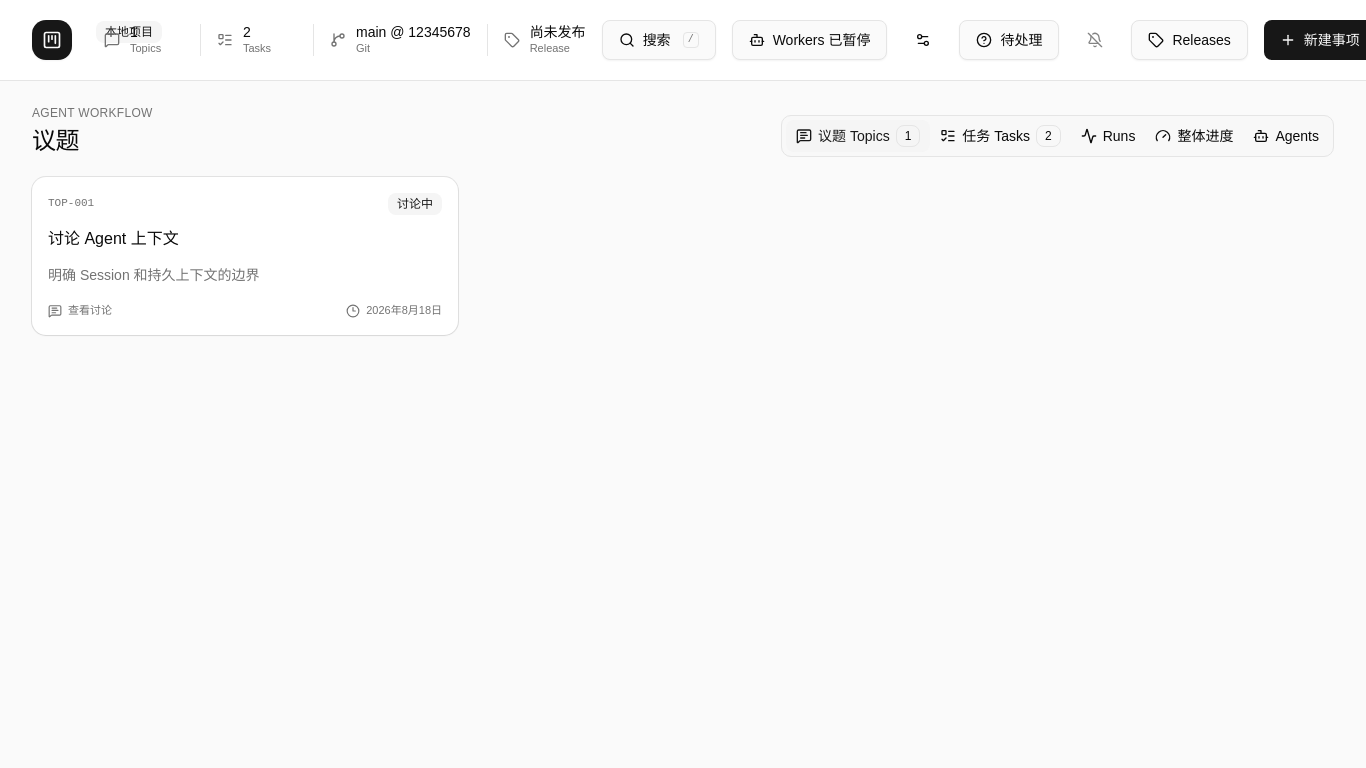
Scenario: App › 可以在项目顶部配置 Worker 并发数
The width and height of the screenshot is (1366, 768).
Expected: the text "讨论 Agent 上下文" is shown, [48,230,179,247]
Click the button named "配置 Workers" at (923, 40), box [903,20,943,60]
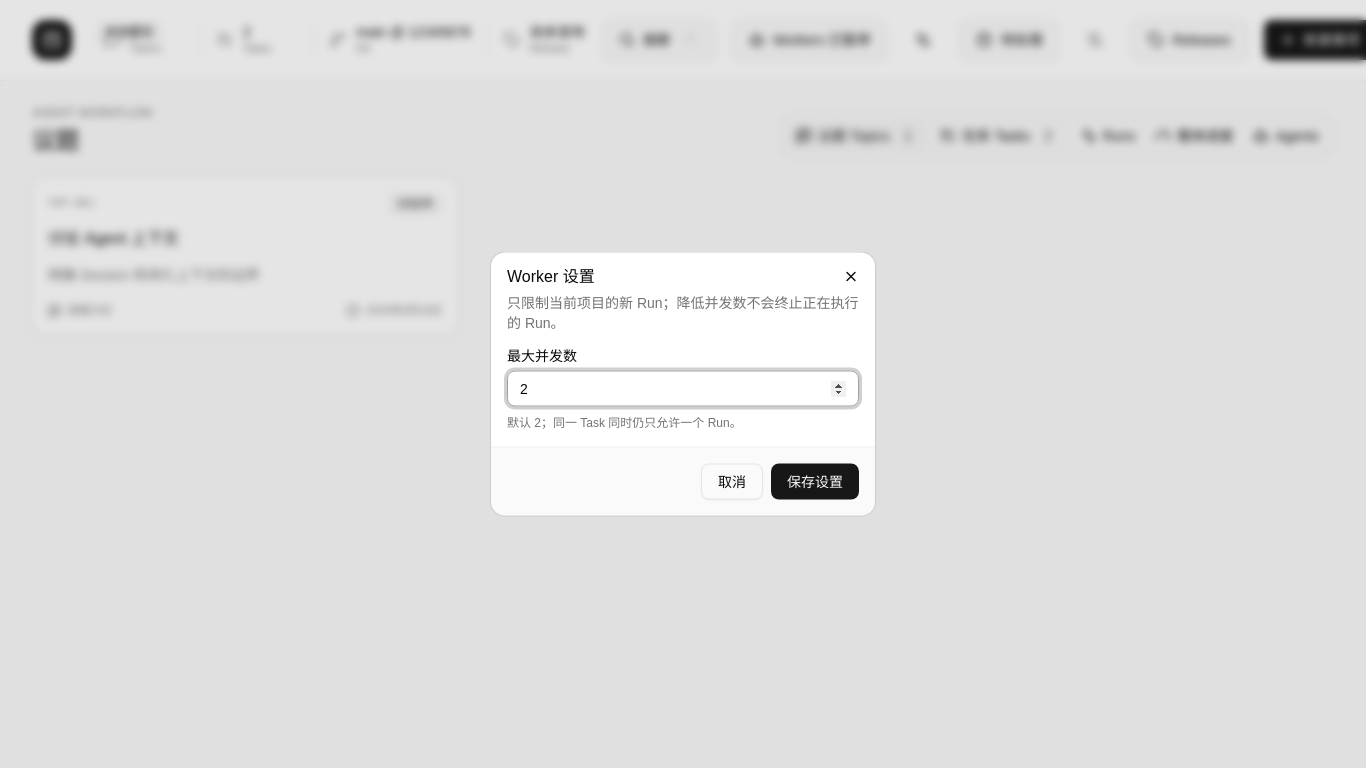
Replace the text in the number field labelled "最大并发数" with "4" at (683, 388), box [507,370,859,406]
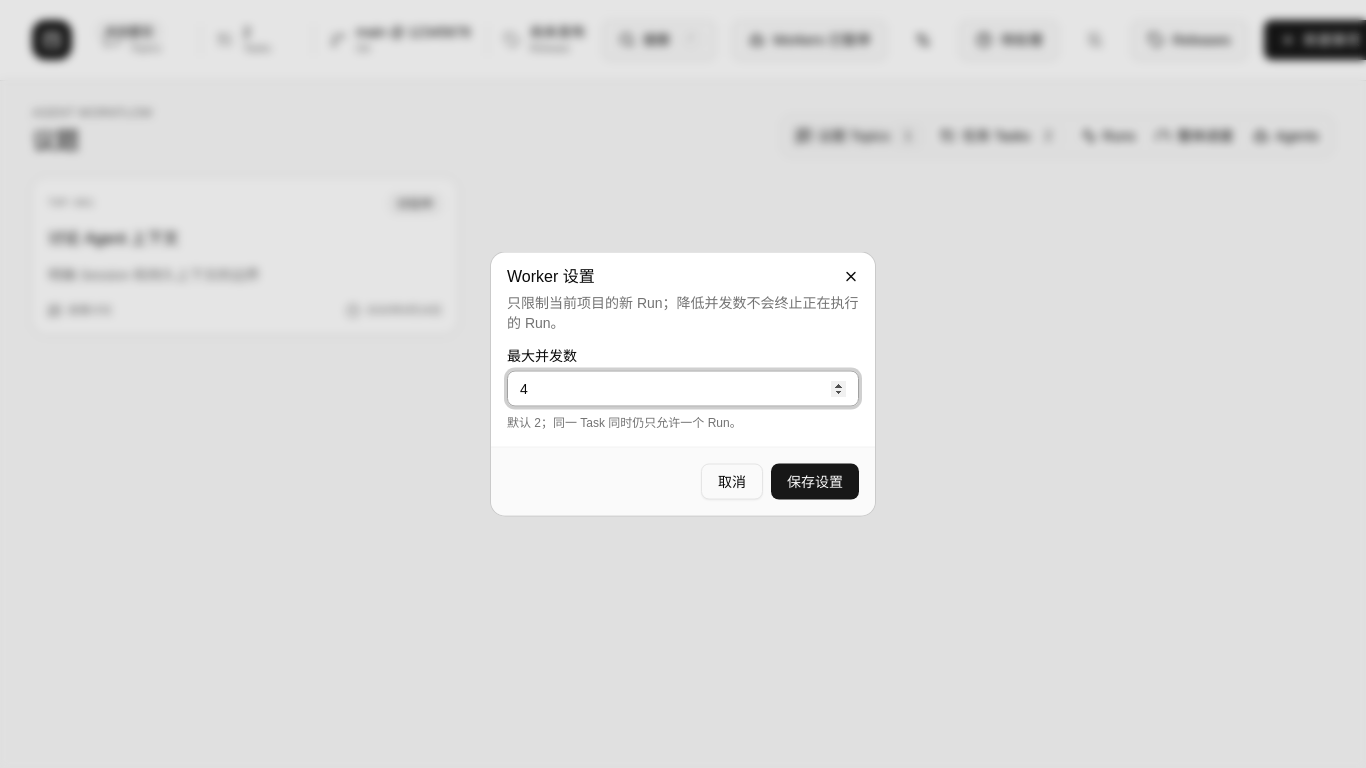
Click the button "保存设置" at (815, 482), box [771,464,859,500]
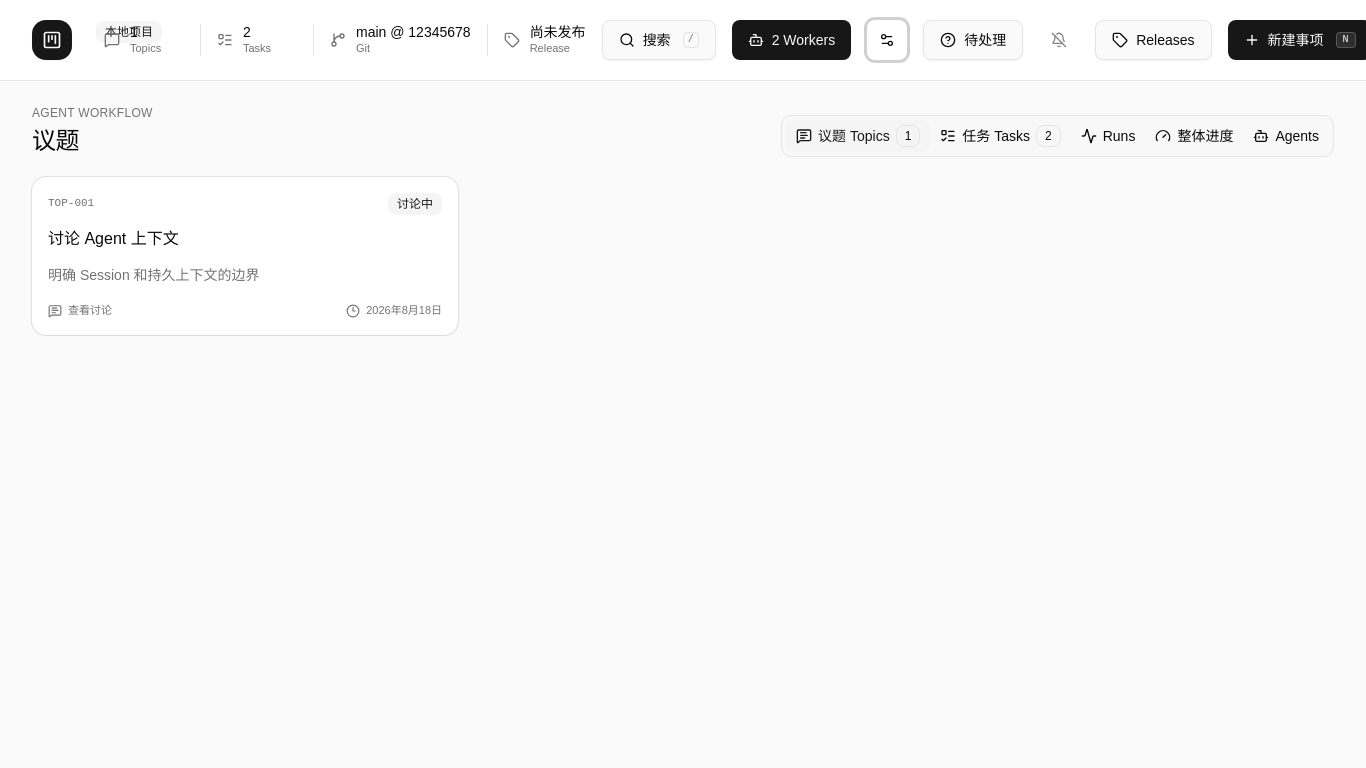
Now the heading "Worker 设置" is gone
